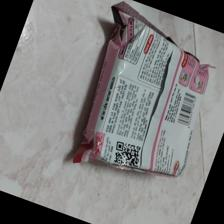Haohao: (61, 1, 213, 180)
